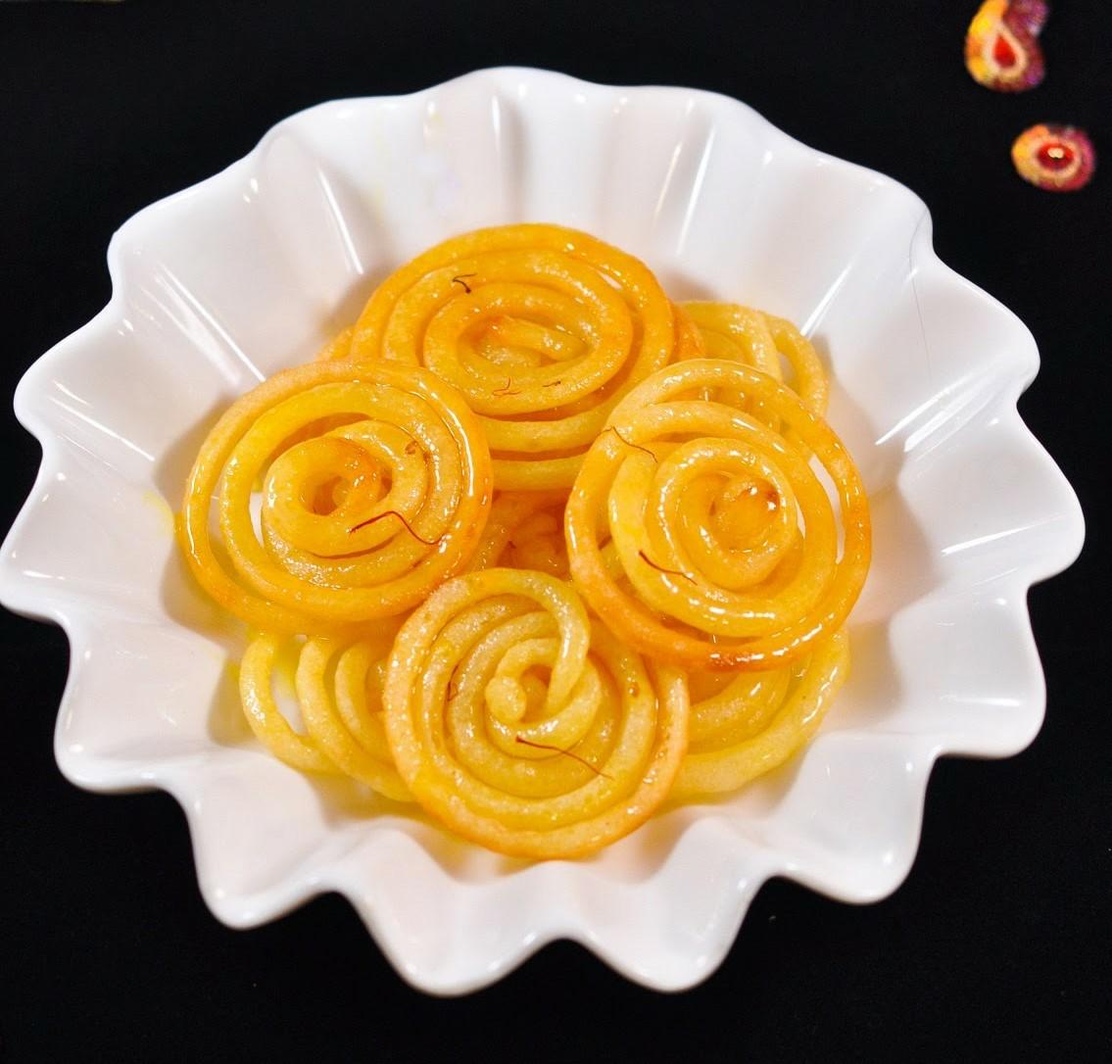Jalebi: (182, 216, 867, 867)
